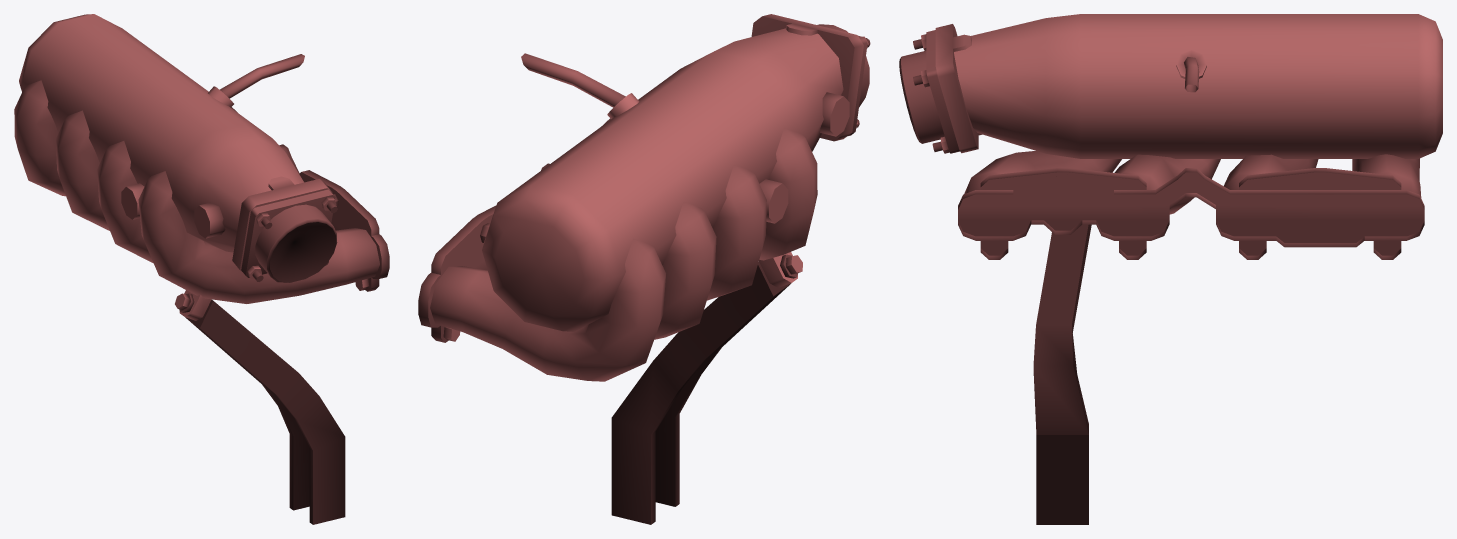
The model's file is BP_Intake1.fbx.
3 views of the same model, side by side, from view 1: azimuth 30°, elevation 25°; view 2: azimuth 150°, elevation 25°; view 3: azimuth 270°, elevation 25° (orthographic). The views are drawn at different scales.
Visible parts, largest first — view 1: BP_Intake1; view 2: BP_Intake1; view 3: BP_Intake1.
Part boxes in pixels (x1,y1,x2,y2): BP_Intake1: (14, 14, 389, 524); BP_Intake1: (418, 14, 870, 524); BP_Intake1: (899, 14, 1442, 524).
Bounding box in the file's own units: 26.24 × 50.71 × 54.89.
